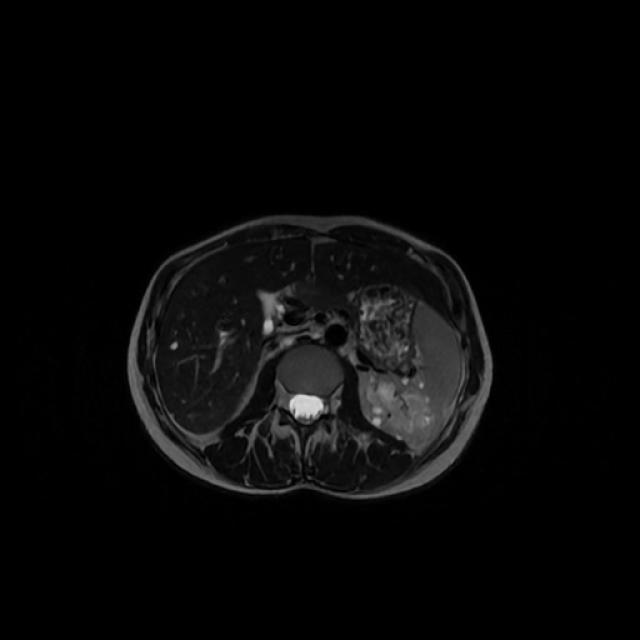sol: (369, 373, 438, 447)
